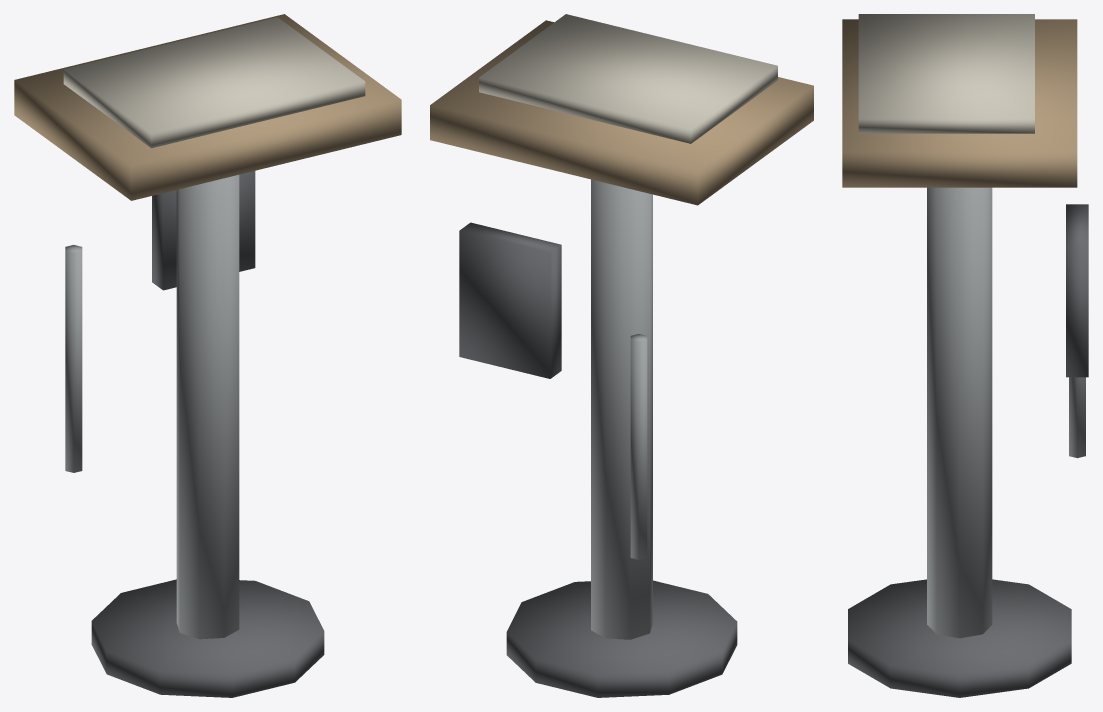
Rendered from memorial_guestbook_stand__service.glb.
3 renders of one model, left to right at view 1: azimuth 30°, elevation 25°; view 2: azimuth 150°, elevation 25°; view 3: azimuth 270°, elevation 25°, orthographic.
Parts seen in each view (by area): view 1: world; view 2: world; view 3: world.
Boxes of the visible parts, bbox=[...] form: world: bbox=[14, 14, 401, 697]; world: bbox=[430, 14, 813, 697]; world: bbox=[842, 14, 1088, 697].
Bounding box in the file's own units: 0.48 × 0.9825 × 0.3775.
